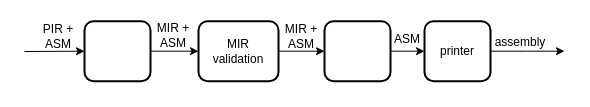
Image size: 590x107. Some labels were removed from this diagram. The shapes that lost their labels are listed below. From the top down, each one's centre as x and y in pixels, then its label:
(117,51): register allocator
(357,51): Assembly Generator
